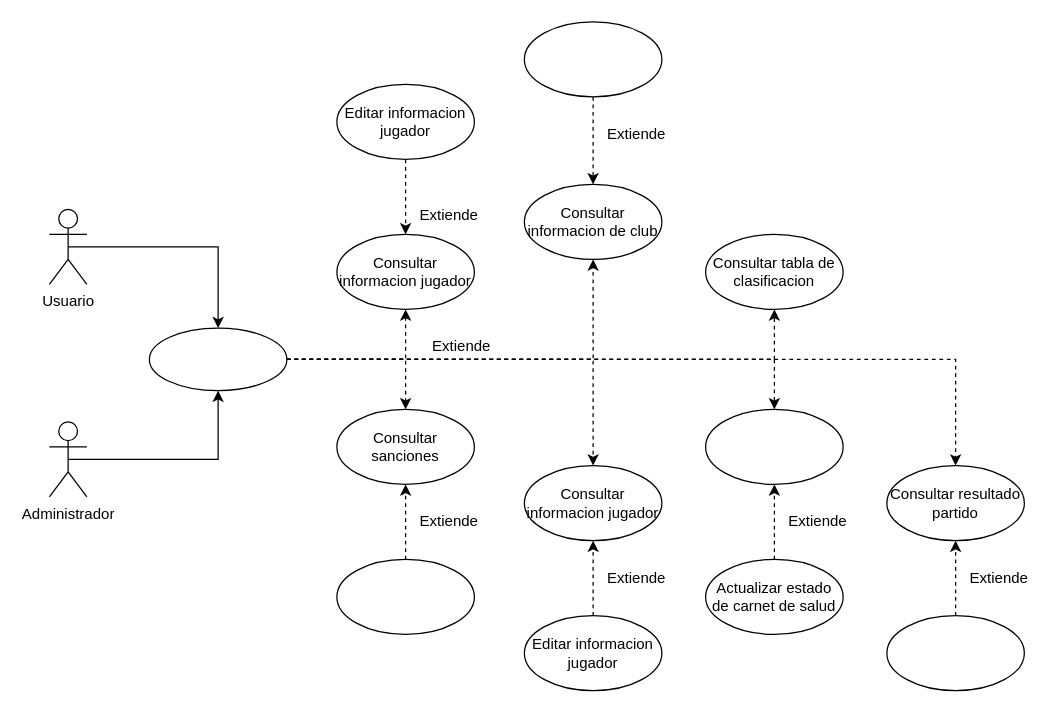
This 1058x713 diagram has some shape labels left out. The shapes that lost their labels are listed below. From the top down, each one's centre as x and y in pixels, then its label:
At point 592,59: "Editar informacion de club".
At point 217,359: "Inicio de sesión".
At point 773,446: "Consultar estado de carnet de salud".
At point 405,596: "Efectuar sanciones".
At point 955,652: "Editar resultado del partido".
